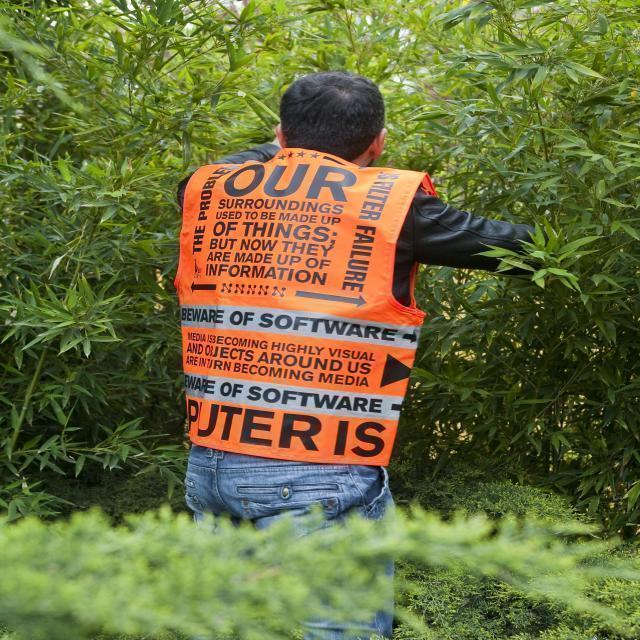no-helmet: (275, 68, 383, 148)
vest: (174, 142, 456, 468)
